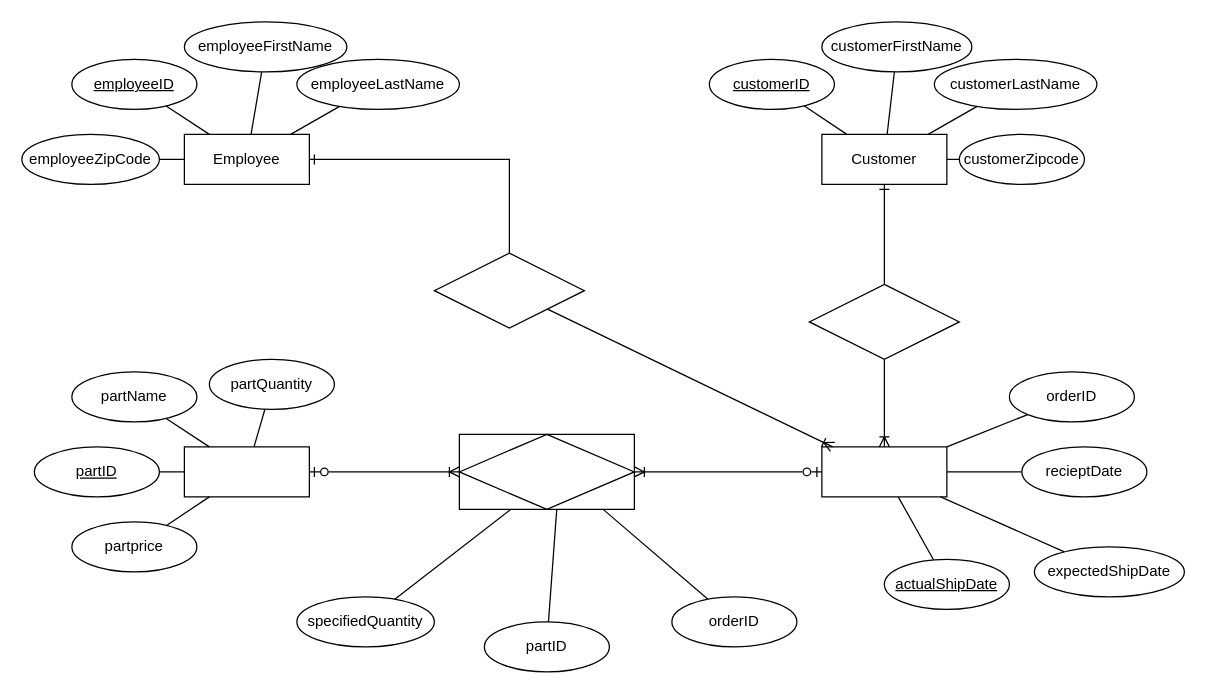
The diagram is 1206 pixels wide and 694 high, and some of its shapes have lost their labels. Each missing label, with the centre of its shape:
"Order" goes at (884,471).
"Order-Line" goes at (546,471).
"part" goes at (246,471).
"places" goes at (883,321).
"takes" goes at (508,290).
